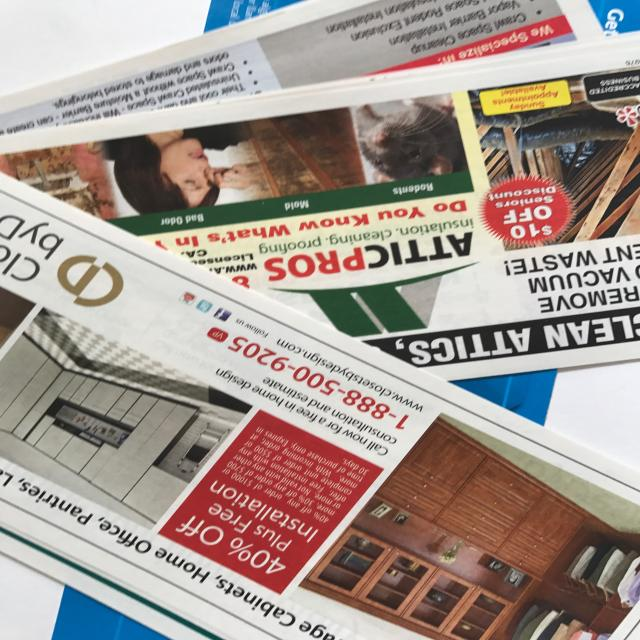paper: (1, 1, 639, 639)
